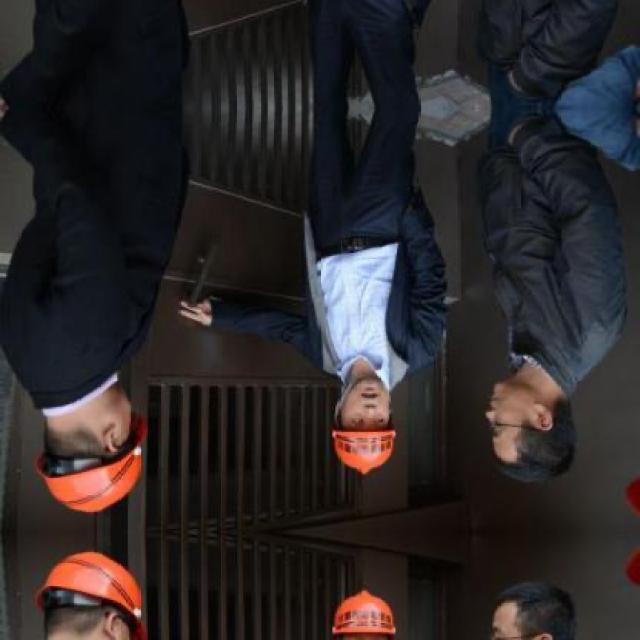con casco: (28, 334, 216, 522), (300, 352, 412, 479)
sin casco: (447, 318, 630, 491)
